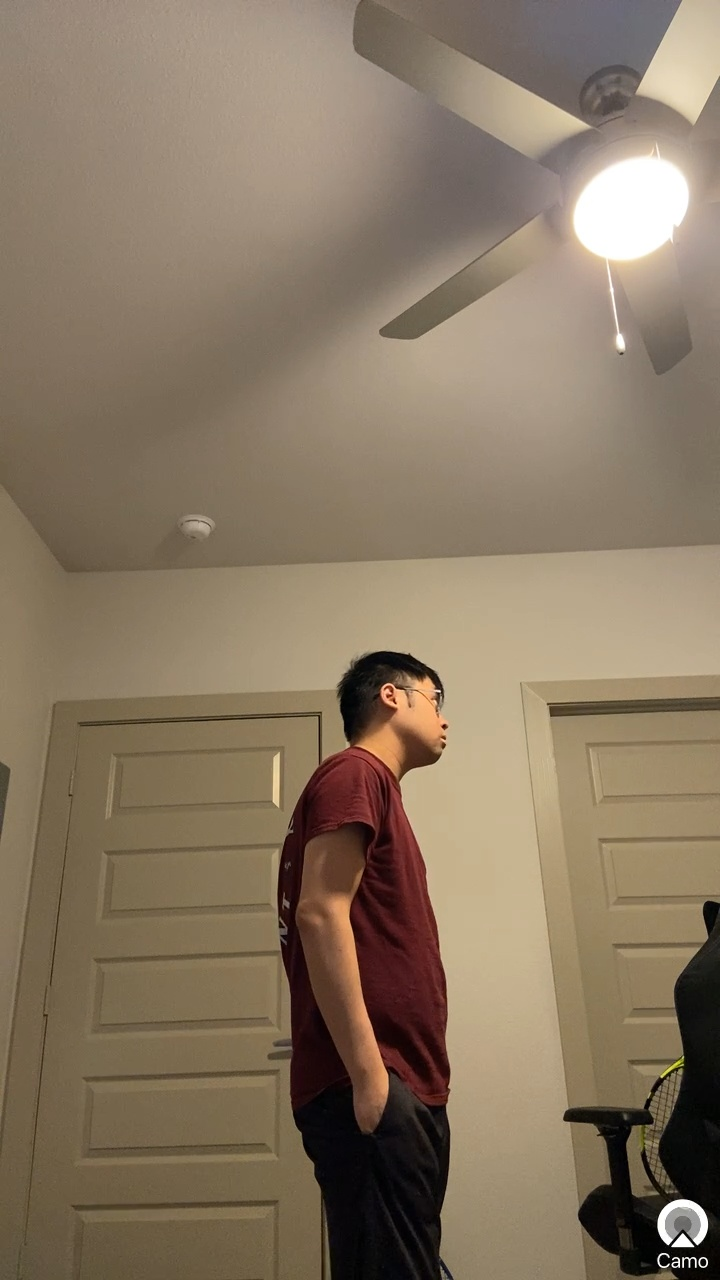Person: (264, 633, 514, 1280)
